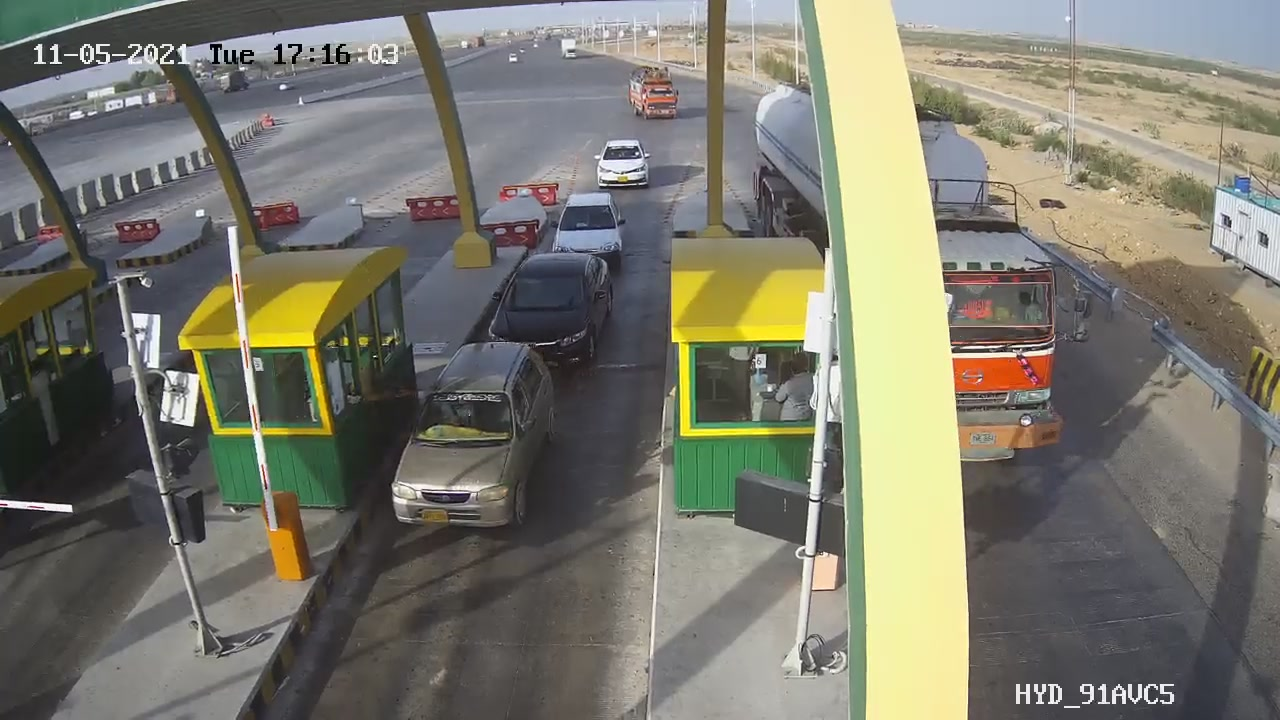F1: (376, 329, 573, 542), (476, 242, 627, 392)
